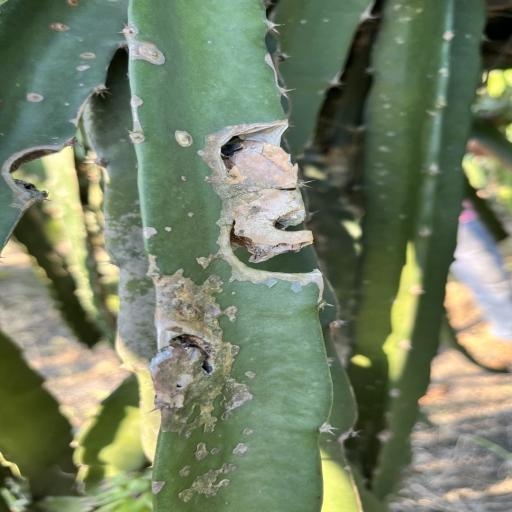stemcanker: (12, 77, 68, 114), (225, 424, 266, 458), (70, 46, 95, 88), (181, 30, 221, 49), (196, 144, 214, 186), (235, 418, 266, 440), (236, 364, 264, 388), (168, 128, 198, 150), (47, 19, 75, 41), (19, 90, 51, 107), (156, 217, 179, 240), (224, 442, 250, 462), (47, 20, 76, 37), (218, 284, 244, 301), (239, 369, 268, 384), (172, 463, 197, 480), (168, 172, 191, 187), (172, 465, 200, 476), (179, 206, 199, 221), (182, 210, 200, 226), (72, 63, 98, 74), (160, 224, 181, 237), (174, 174, 194, 187), (45, 134, 63, 148), (80, 48, 100, 60), (63, 0, 91, 8), (230, 290, 241, 299), (162, 226, 173, 232), (187, 212, 195, 218), (231, 290, 238, 296), (206, 40, 216, 44)
